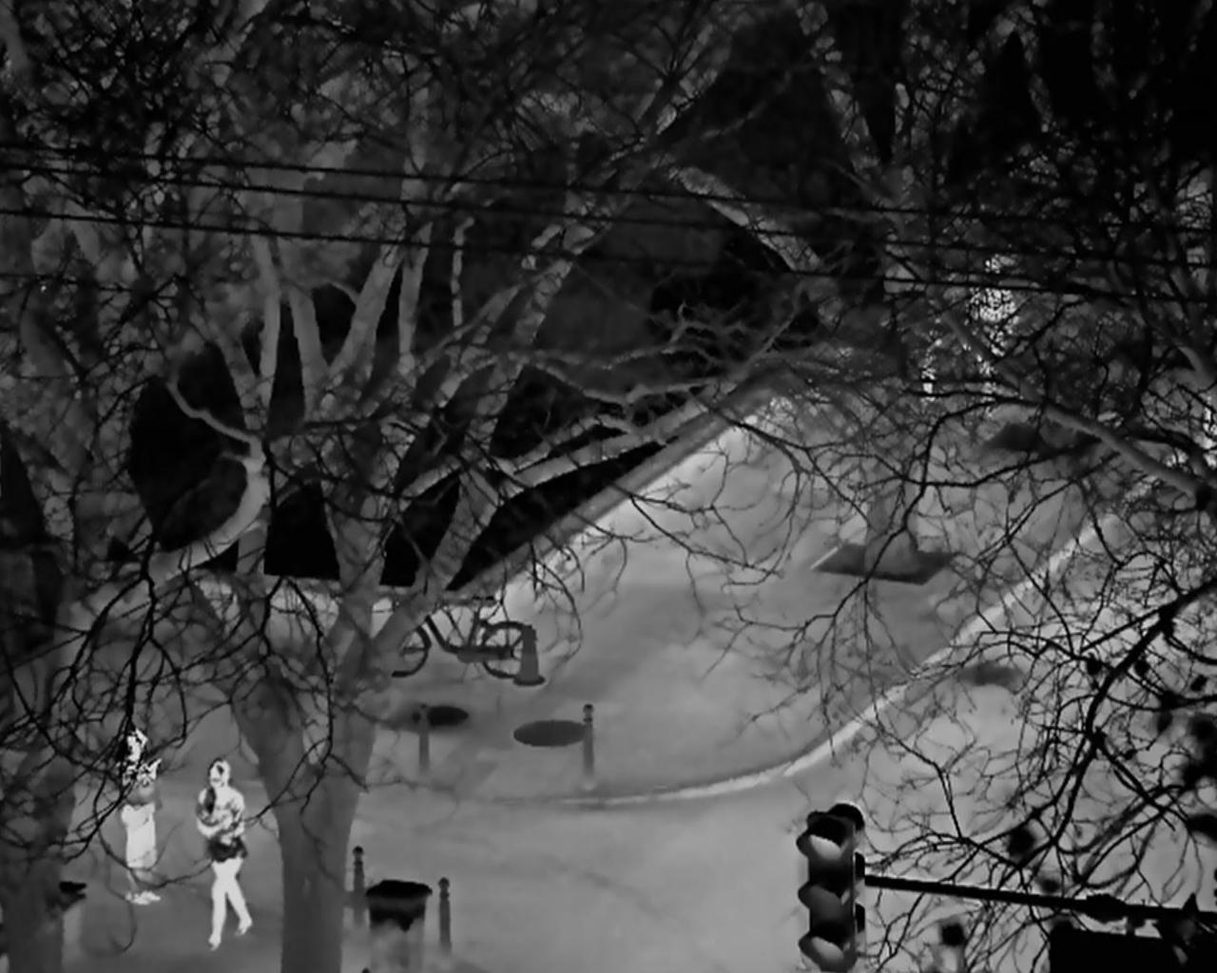person: (198, 759, 252, 951), (118, 730, 163, 907)
